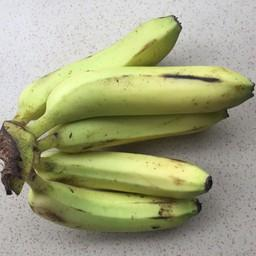Good_banana: (3, 19, 256, 241), (38, 146, 209, 243), (42, 61, 249, 124), (37, 169, 211, 236), (36, 145, 215, 197)
